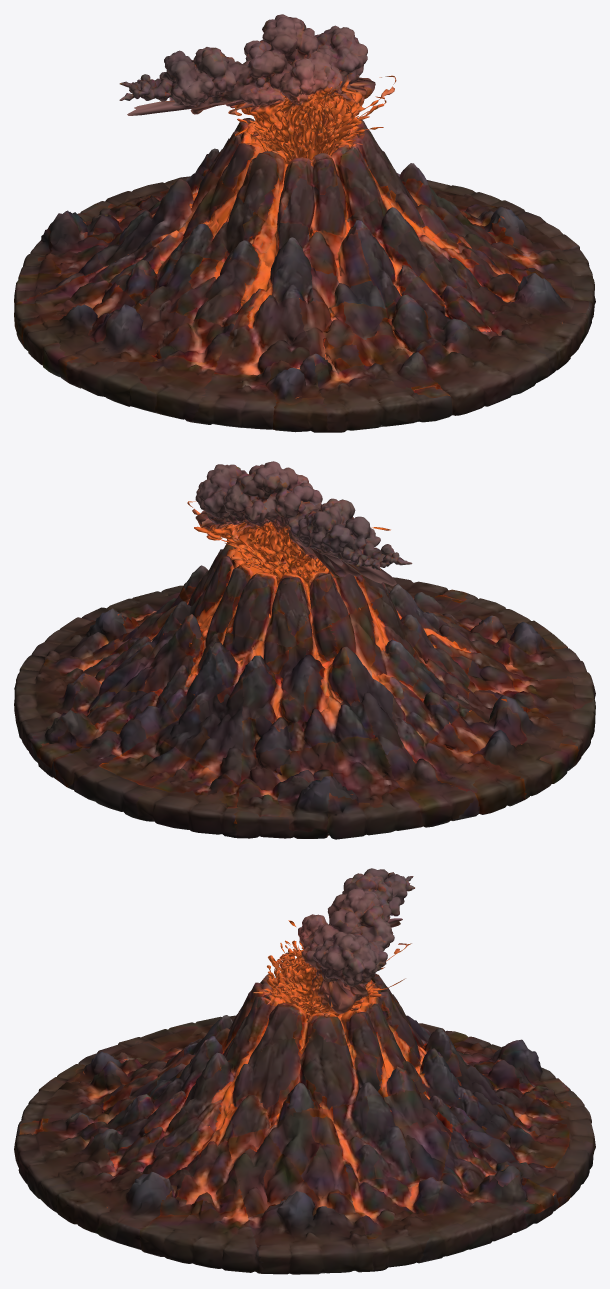
The picture shows the model from 3 angles, top to bottom: view 1: azimuth 30°, elevation 25°; view 2: azimuth 150°, elevation 25°; view 3: azimuth 270°, elevation 25°; orthographic projection.
Visible parts, largest first — view 1: node_id4; view 2: node_id4; view 3: node_id4.
Boxes of the visible parts, x1,y1,x2,y2 form: node_id4: [14, 14, 595, 432]; node_id4: [14, 461, 595, 839]; node_id4: [14, 868, 595, 1274].
Bounding box in the file's own units: 0.5117 × 0.2618 × 0.5135.
Materials: 1 (1 with a texture image).
